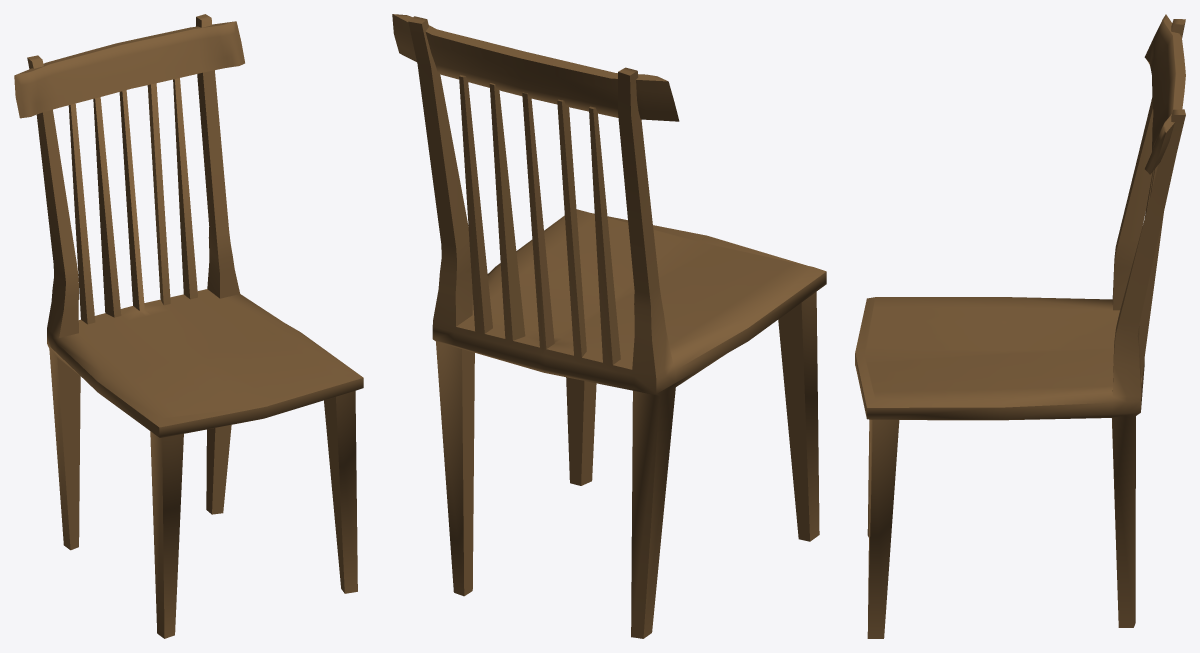
The model's file is chair.fbx.
3 views of the same model, side by side, from view 1: azimuth 30°, elevation 25°; view 2: azimuth 150°, elevation 25°; view 3: azimuth 270°, elevation 25° (orthographic). The views are drawn at different scales.
Visible parts, largest first — view 1: Cube.001; view 2: Cube.001; view 3: Cube.001.
Part boxes in pixels (x1,y1,x2,y2): Cube.001: (14,14,363,638); Cube.001: (392,14,826,638); Cube.001: (855,14,1185,638).
Size of the model in its own units: 47.02 by 94.29 by 54.35.
